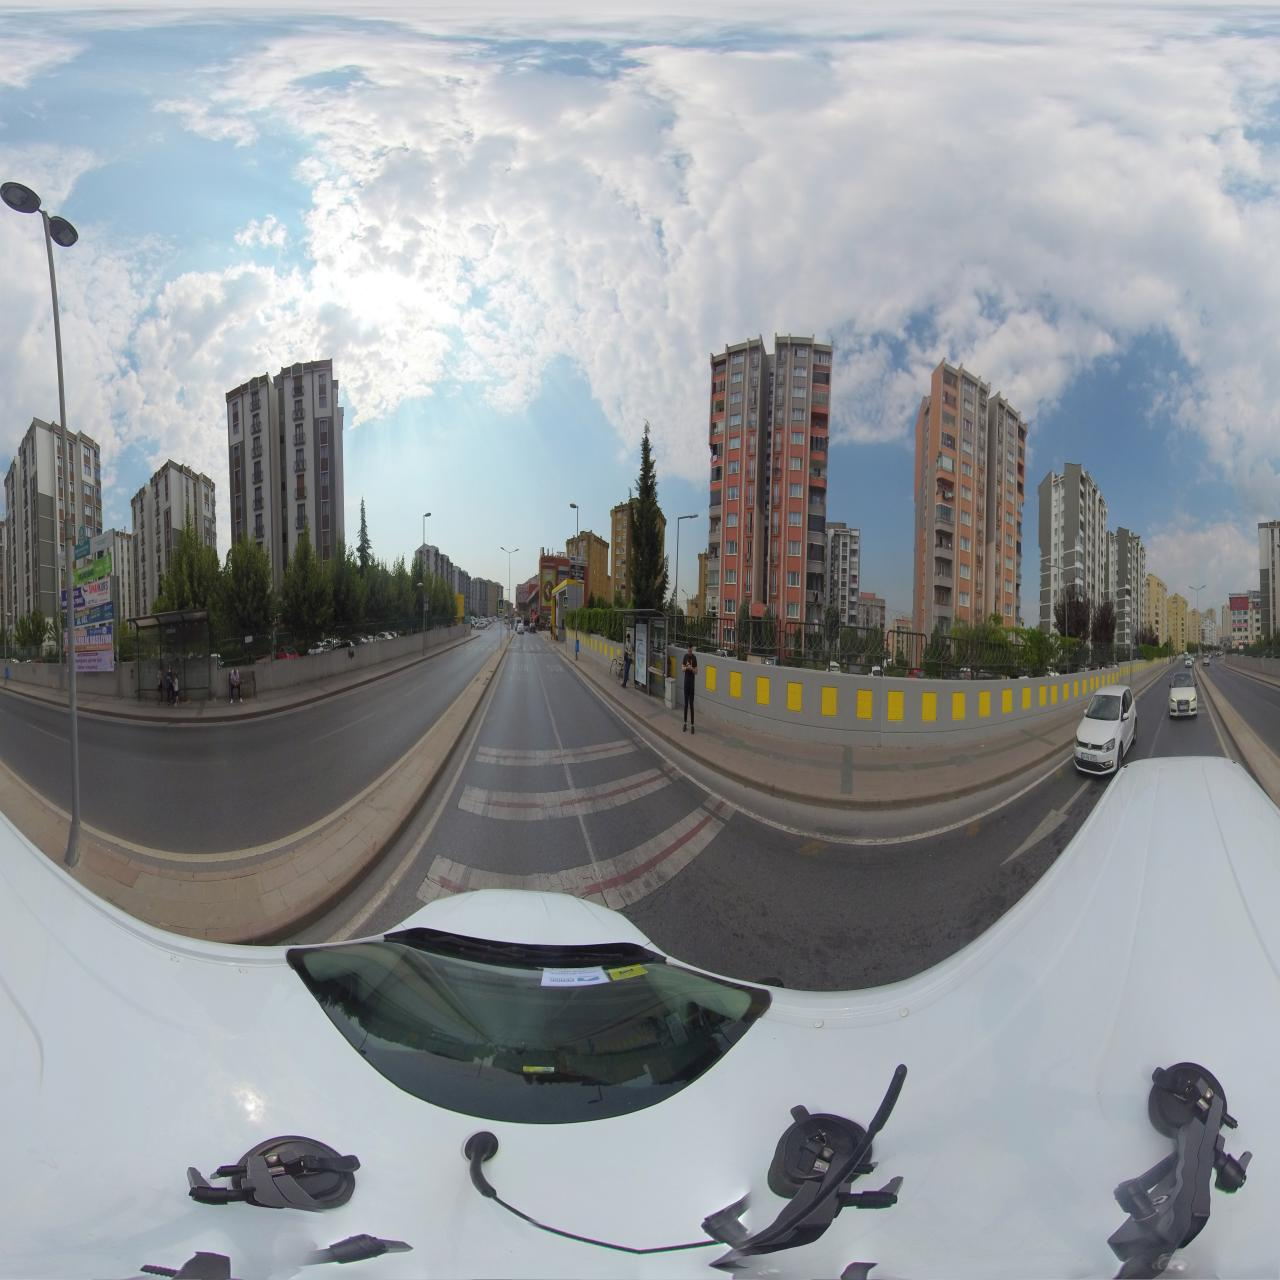SignStore: (557, 550, 566, 558)
